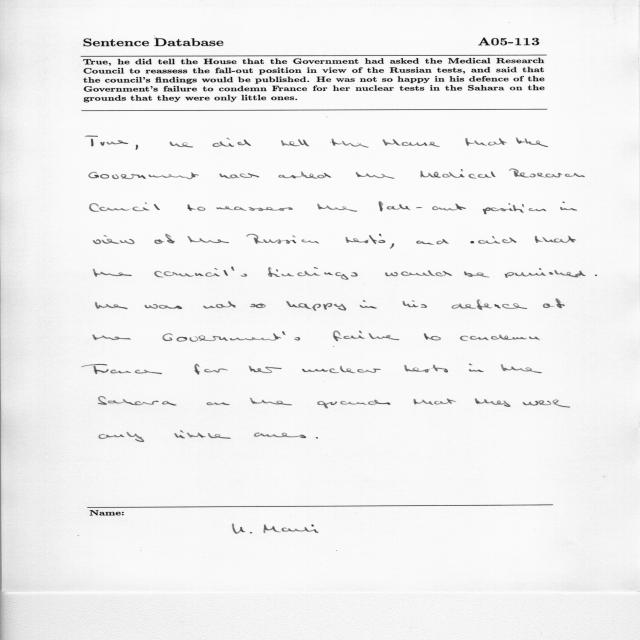word: (163, 331, 301, 342), (268, 267, 358, 280), (154, 267, 247, 277), (378, 202, 466, 212), (451, 299, 527, 310), (505, 268, 586, 278), (82, 364, 162, 374), (89, 172, 199, 179), (346, 234, 395, 249), (246, 234, 319, 244), (99, 397, 177, 406), (90, 202, 160, 212), (483, 204, 546, 215), (420, 169, 496, 178), (509, 169, 585, 178), (333, 331, 399, 341), (318, 400, 391, 409), (286, 301, 346, 311), (302, 366, 381, 373), (174, 430, 231, 439), (460, 335, 540, 341), (383, 139, 440, 147), (99, 432, 144, 442), (86, 136, 129, 146), (385, 271, 452, 277), (217, 206, 293, 211), (93, 235, 135, 244), (523, 400, 570, 408), (194, 364, 228, 375), (501, 364, 542, 373), (471, 236, 517, 244), (279, 172, 331, 179), (404, 365, 448, 373), (213, 138, 251, 147), (465, 138, 507, 146), (332, 139, 369, 148), (317, 204, 357, 212), (475, 398, 510, 407), (94, 269, 132, 277), (188, 236, 230, 243), (250, 398, 292, 405), (414, 398, 456, 405), (516, 138, 548, 147), (535, 236, 576, 243), (356, 172, 395, 179), (203, 301, 236, 309), (254, 433, 306, 438), (220, 173, 260, 179), (95, 302, 128, 309), (249, 366, 282, 373), (93, 334, 131, 340), (154, 234, 175, 244), (543, 299, 565, 308), (281, 139, 309, 146), (403, 300, 427, 308), (145, 304, 182, 309), (560, 202, 577, 211), (360, 300, 377, 309), (464, 272, 489, 278), (170, 142, 194, 148), (188, 204, 206, 211), (469, 364, 484, 372), (424, 334, 441, 341), (416, 241, 434, 245), (207, 402, 230, 405), (436, 239, 449, 244), (250, 304, 266, 308), (136, 145, 138, 150), (316, 437, 318, 439), (595, 275, 597, 276)
